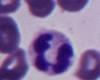N: (29, 29, 75, 78)
